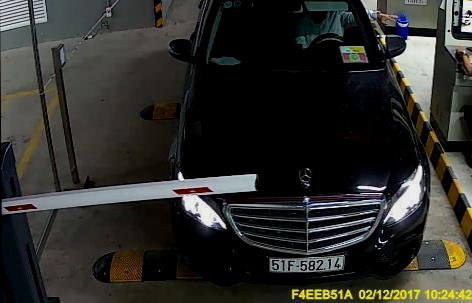License_Plate: (267, 254, 347, 275)
